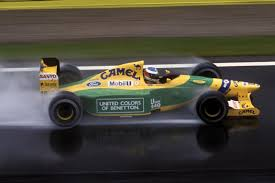f1_car: (33, 54, 265, 134)
